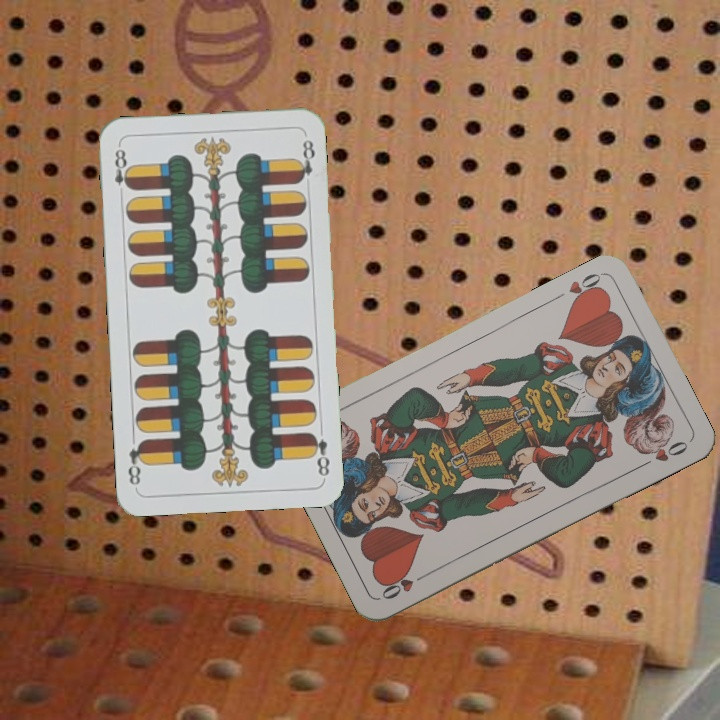E8: (306, 428, 333, 479), (110, 141, 134, 192)
HO: (377, 568, 432, 602), (565, 268, 606, 308)
